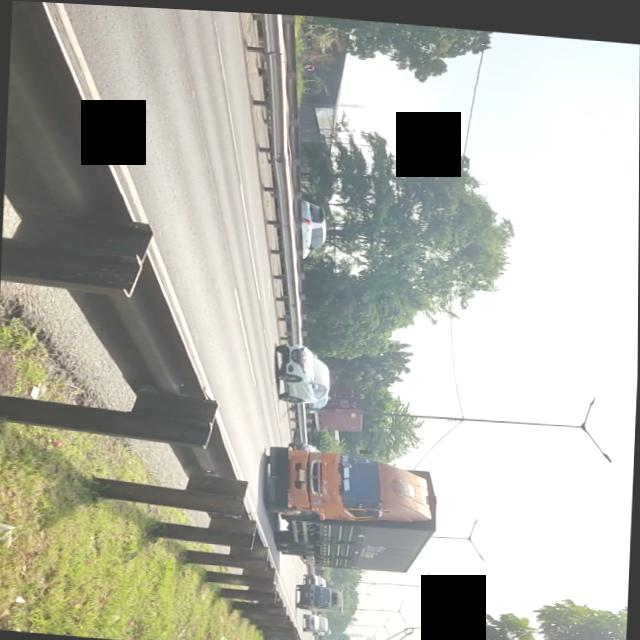Golongan I: (270, 337, 335, 406)
Golongan III: (262, 438, 440, 573)
